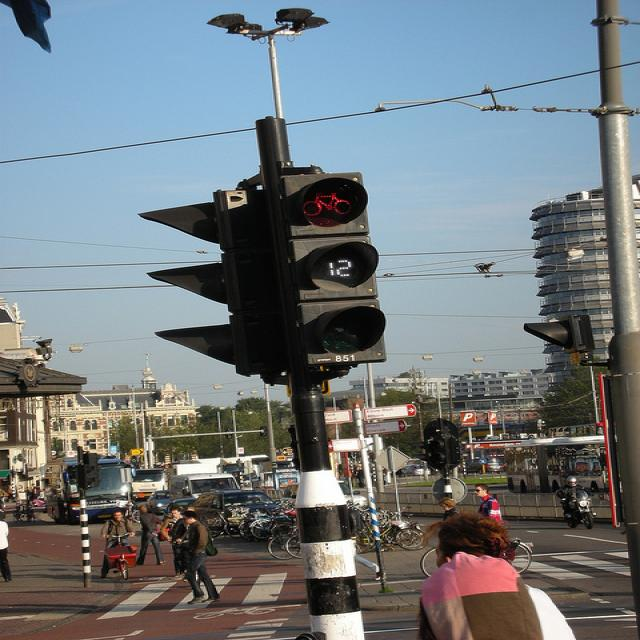motor: (564, 490, 596, 529)
